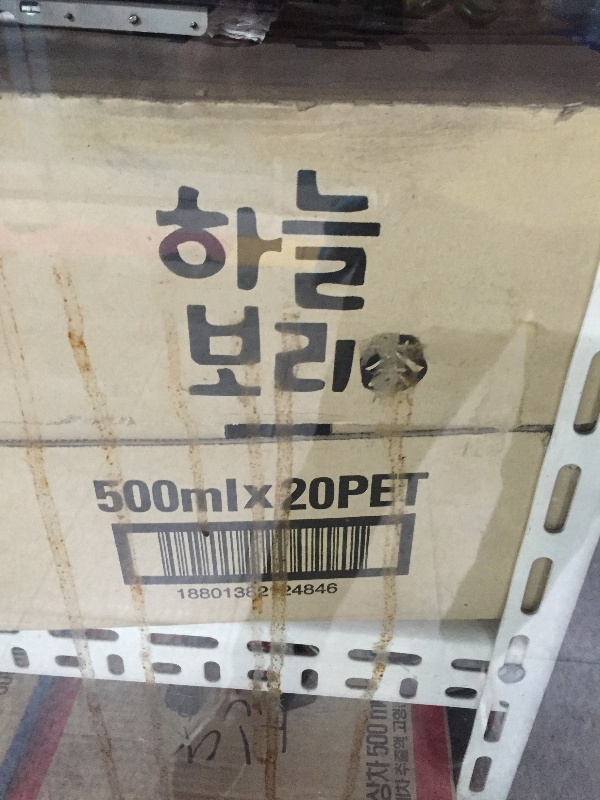text: (161, 155, 176, 327), (177, 155, 192, 327), (193, 155, 208, 327), (209, 155, 224, 327), (225, 155, 240, 327), (241, 155, 256, 327), (257, 155, 272, 327), (273, 155, 288, 327), (289, 155, 304, 327), (305, 155, 320, 327), (321, 155, 336, 327), (337, 155, 352, 327), (353, 155, 368, 327), (369, 155, 384, 327), (193, 299, 208, 403), (209, 299, 224, 403), (225, 299, 240, 403), (241, 299, 256, 403), (257, 299, 272, 403), (273, 299, 288, 403), (289, 299, 304, 403), (305, 299, 320, 403), (321, 299, 336, 403), (337, 299, 352, 403), (181, 299, 192, 403), (401, 701, 411, 798), (353, 299, 362, 403), (369, 338, 384, 399), (385, 338, 400, 399), (401, 338, 416, 399), (391, 701, 400, 798), (97, 469, 112, 527), (113, 469, 128, 527), (129, 469, 144, 527), (145, 469, 160, 527), (161, 469, 176, 527), (177, 469, 192, 527), (193, 469, 208, 527), (209, 469, 224, 527), (225, 469, 240, 527), (241, 469, 256, 527), (257, 469, 272, 527), (273, 469, 288, 527), (289, 469, 304, 527), (305, 469, 320, 527), (321, 469, 336, 527), (337, 469, 352, 527), (353, 469, 368, 527), (369, 469, 384, 527), (385, 469, 400, 527), (401, 469, 416, 527), (417, 469, 432, 527), (385, 155, 390, 327), (156, 155, 160, 327), (417, 338, 427, 399), (369, 722, 384, 762), (369, 761, 384, 797), (369, 699, 384, 723), (177, 582, 192, 605), (193, 582, 208, 605), (209, 582, 224, 605), (225, 582, 240, 605), (241, 582, 256, 605), (257, 582, 272, 605), (273, 582, 288, 605), (289, 582, 304, 605), (305, 582, 320, 605), (321, 582, 336, 605), (363, 338, 368, 399), (92, 469, 96, 527), (385, 761, 391, 797), (385, 722, 389, 762), (365, 761, 368, 797), (366, 722, 368, 762), (385, 699, 388, 723), (433, 469, 434, 527), (337, 582, 338, 605)
